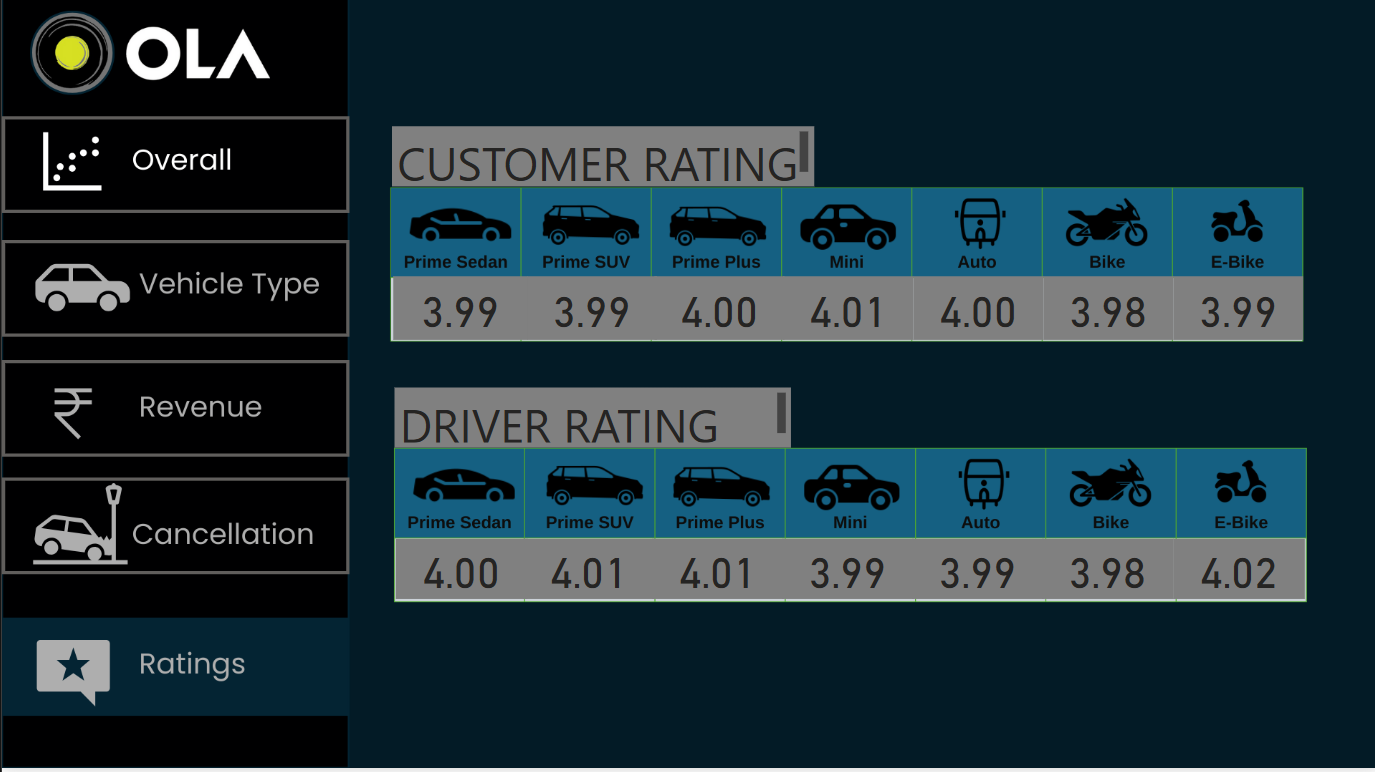

This screenshot's page, from the dashboard's own definition file:
{"tool":"powerbi","page":{"name":"Ratings","canvas":[1280,720],"ordinal":4},"visuals":[{"type":"actionButton","box":[0,113.3,323.3,90],"z":0},{"type":"actionButton","box":[0,227.8,323.3,90],"z":1000},{"type":"actionButton","box":[0,340,323.3,90],"z":2000},{"type":"actionButton","box":[0,448.9,323.3,90],"z":3000},{"type":"textbox","box":[362.3,122.1,392.5,56.3],"z":4000},{"type":"textbox","box":[365,365,369.1,56.3],"z":5000},{"type":"card","fields":{"Values":["Avg(July.Customer_Rating)"]},"box":[1089.5,262.1,120.8,59],"z":6000},{"type":"card","fields":{"Values":["Avg(July.Customer_Rating)"]},"box":[968.8,262.1,120.8,59],"z":7000},{"type":"card","fields":{"Values":["Avg(July.Customer_Rating)"]},"box":[848,262.1,120.8,59],"z":8000},{"type":"card","fields":{"Values":["Avg(July.Customer_Rating)"]},"box":[727.3,262.1,120.8,59],"z":9000},{"type":"card","fields":{"Values":["Avg(July.Customer_Rating)"]},"box":[606.5,262.1,120.8,59],"z":10000},{"type":"card","fields":{"Values":["Avg(July.Customer_Rating)"]},"box":[488.5,262.1,120.8,59],"z":11000},{"type":"card","fields":{"Values":["Avg(July.Customer_Rating)"]},"box":[363.6,262.1,124.9,59],"z":12000},{"type":"card","fields":{"Values":["Avg(July.Driver_Ratings)"]},"box":[366.4,506.3,122.1,56.3],"z":13000},{"type":"card","fields":{"Values":["Avg(July.Driver_Ratings)"]},"box":[484.4,506.3,122.1,56.3],"z":14000},{"type":"card","fields":{"Values":["Avg(July.Driver_Ratings)"]},"box":[605.1,506.3,122.1,56.3],"z":15000},{"type":"card","fields":{"Values":["Avg(July.Driver_Ratings)"]},"box":[725.9,506.3,122.1,56.3],"z":16000},{"type":"card","fields":{"Values":["Avg(July.Driver_Ratings)"]},"box":[846.7,506.3,122.1,56.3],"z":17000},{"type":"card","fields":{"Values":["Avg(July.Driver_Ratings)"]},"box":[967.4,506.3,122.1,56.3],"z":18000},{"type":"card","fields":{"Values":["Avg(July.Driver_Ratings)"]},"box":[1089.5,506.3,122.1,56.3],"z":19000}]}

Visuals, with their boxes in screenshot pixels (x1, y1, x2, y2), scaled from the page's 1280x720 canvas onto the 1375x772 screenshot:
actionButton: x1=0 y1=121 x2=347 y2=218
actionButton: x1=0 y1=244 x2=347 y2=341
actionButton: x1=0 y1=365 x2=347 y2=461
actionButton: x1=0 y1=481 x2=347 y2=578
textbox: x1=389 y1=131 x2=811 y2=191
textbox: x1=392 y1=391 x2=789 y2=452
card - Avg(July.Customer_Rating): x1=1170 y1=281 x2=1300 y2=344
card - Avg(July.Customer_Rating): x1=1041 y1=281 x2=1170 y2=344
card - Avg(July.Customer_Rating): x1=911 y1=281 x2=1041 y2=344
card - Avg(July.Customer_Rating): x1=781 y1=281 x2=911 y2=344
card - Avg(July.Customer_Rating): x1=652 y1=281 x2=781 y2=344
card - Avg(July.Customer_Rating): x1=525 y1=281 x2=655 y2=344
card - Avg(July.Customer_Rating): x1=391 y1=281 x2=525 y2=344
card - Avg(July.Driver_Ratings): x1=394 y1=543 x2=525 y2=603
card - Avg(July.Driver_Ratings): x1=520 y1=543 x2=652 y2=603
card - Avg(July.Driver_Ratings): x1=650 y1=543 x2=781 y2=603
card - Avg(July.Driver_Ratings): x1=780 y1=543 x2=911 y2=603
card - Avg(July.Driver_Ratings): x1=910 y1=543 x2=1041 y2=603
card - Avg(July.Driver_Ratings): x1=1039 y1=543 x2=1170 y2=603
card - Avg(July.Driver_Ratings): x1=1170 y1=543 x2=1302 y2=603
